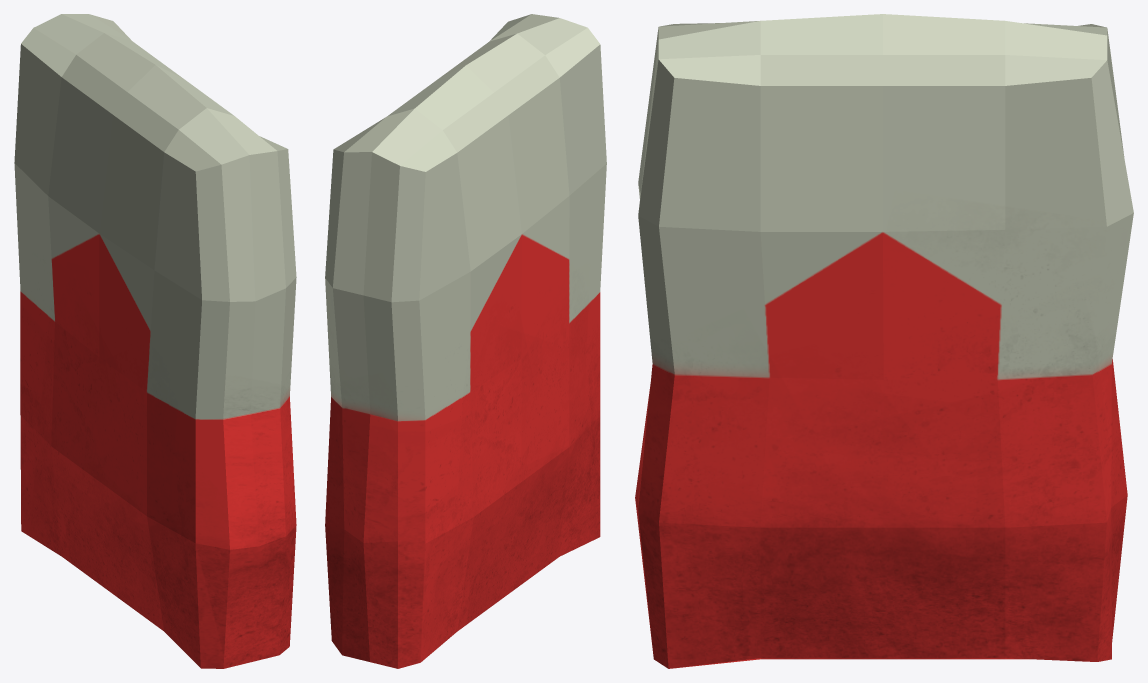
File: barm_model.glb
3 views of the same model, side by side, from view 1: azimuth 30°, elevation 25°; view 2: azimuth 150°, elevation 25°; view 3: azimuth 270°, elevation 25° (orthographic). The views are drawn at different scales.
Parts seen in each view (by area): view 1: Cube; view 2: Cube; view 3: Cube.
Boxes of the visible parts, x1=… form: Cube: x1=14, y1=14, x2=296, y2=668; Cube: x1=325, y1=14, x2=606, y2=668; Cube: x1=635, y1=14, x2=1133, y2=668.
Bounding box in the file's own units: 0.4728 × 2.14 × 1.53.
1 material, 1 textured.
